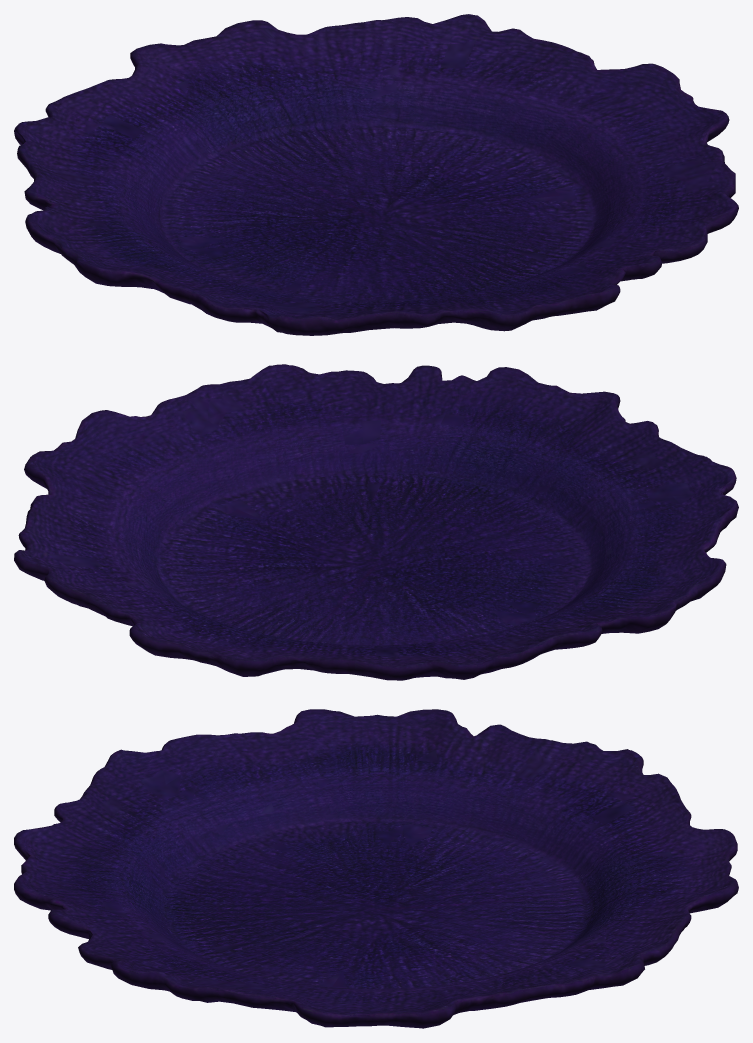
The model's file is Purple_Reef_Charger_Plate_0308225757_texture.glb.
3 renders of one model, top to bottom at view 1: azimuth 30°, elevation 25°; view 2: azimuth 150°, elevation 25°; view 3: azimuth 270°, elevation 25°, orthographic. The views are drawn at different scales.
Visible parts, largest first — view 1: Mesh_0.001; view 2: Mesh_0.001; view 3: Mesh_0.001.
Boxes of the visible parts, <box> form: Mesh_0.001: <box>14,14,738,335</box>; Mesh_0.001: <box>14,364,738,680</box>; Mesh_0.001: <box>14,709,738,1028</box>.
Bounding box in the file's own units: 0.2469 × 0.0254 × 0.2474.
1 material, 1 textured.
